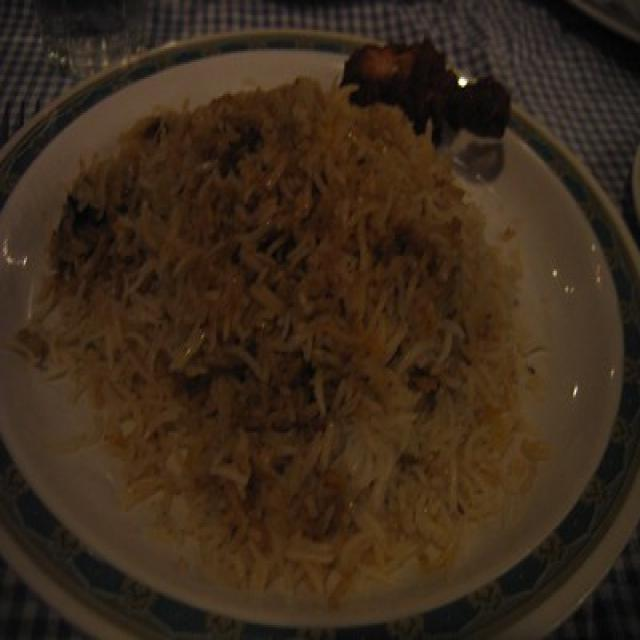Biryani: (66, 141, 554, 552)
